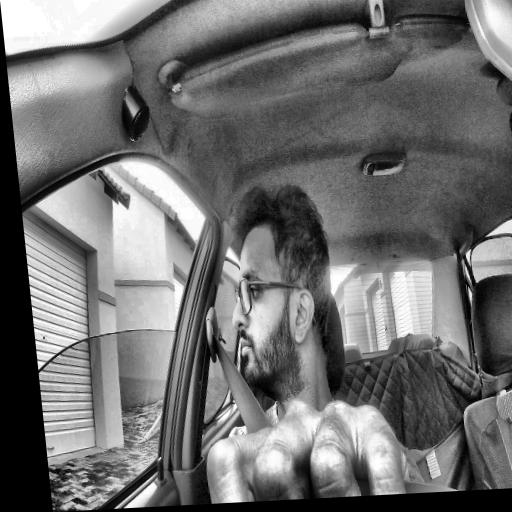awake: (219, 183, 344, 392)
